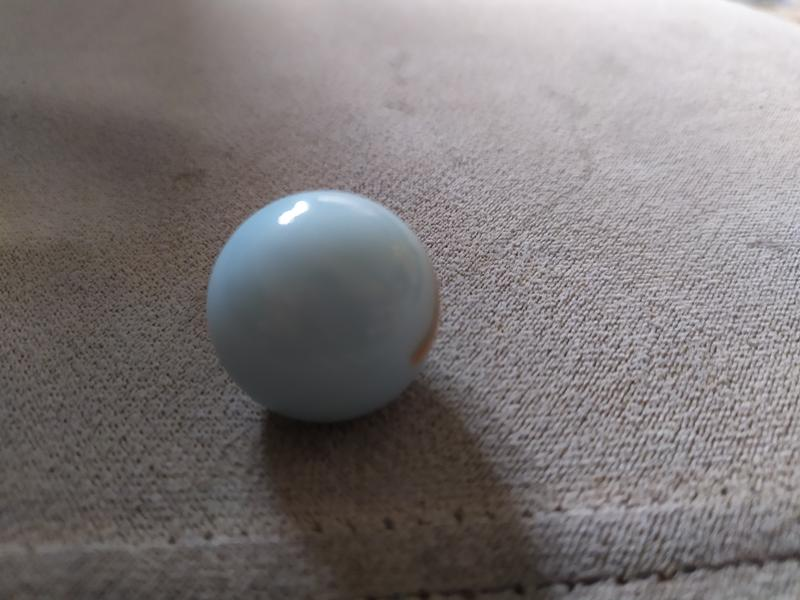Warning: (203, 184, 447, 430)
